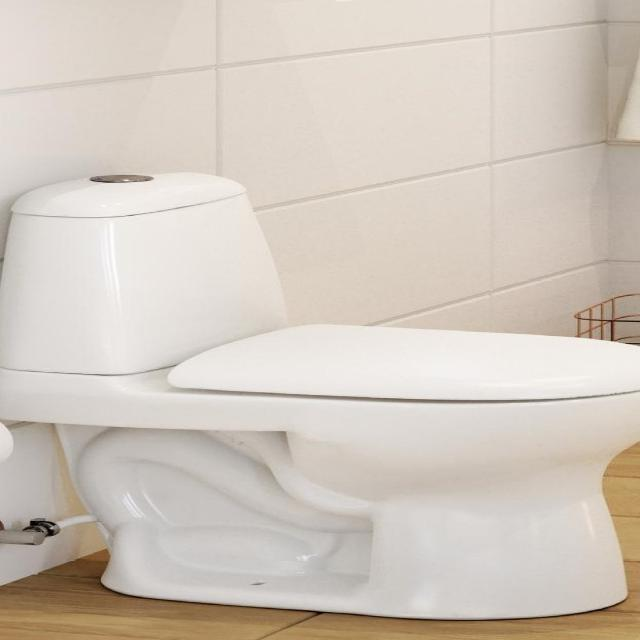toilet: (10, 157, 640, 622)
